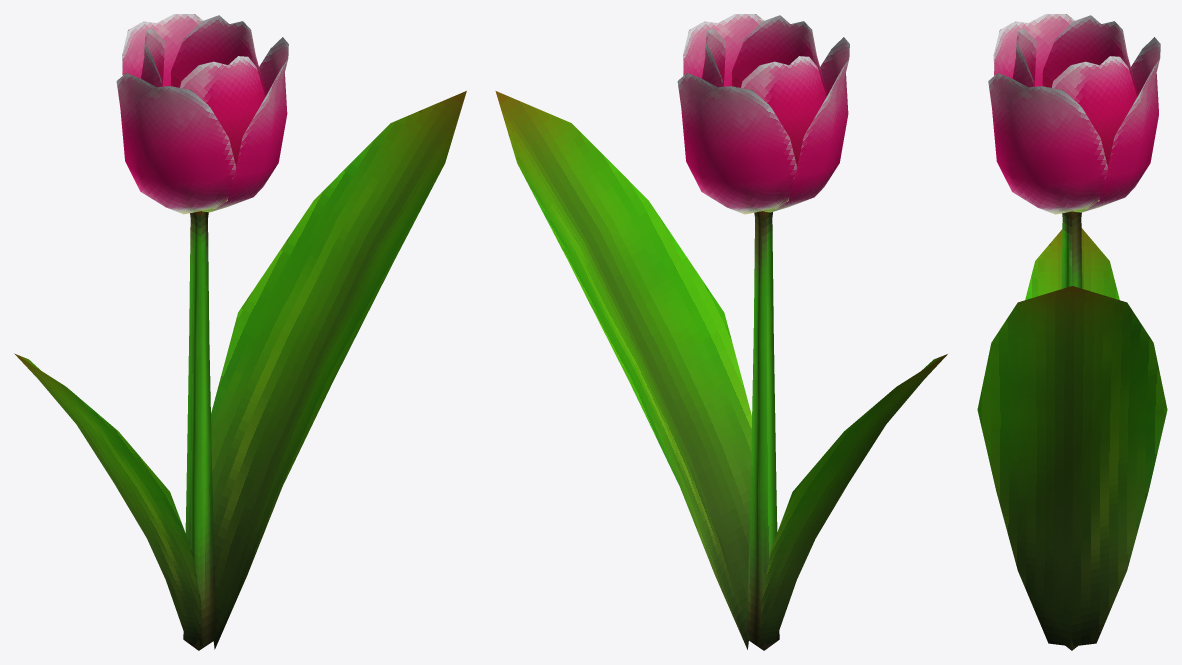
Rendered from tulip.glb.
3 renders of one model, left to right at view 1: azimuth 30°, elevation 25°; view 2: azimuth 150°, elevation 25°; view 3: azimuth 270°, elevation 25°, orthographic.
Visible parts, largest first — view 1: 平面.002, 平面, 平面.003, Cube, 平面.001; view 2: 平面.002, 平面, 平面.003, Cube, 平面.001; view 3: 平面.002, 平面, 平面.001, 平面.003, Cube.
Boxes of the visible parts, <box> form: 平面.002: <box>211,91,466,649</box>; 平面: <box>116,14,288,214</box>; 平面.003: <box>14,353,202,646</box>; Cube: <box>183,211,215,650</box>; 平面.001: <box>141,15,266,166</box>; 平面.002: <box>495,91,751,649</box>; 平面: <box>677,14,849,214</box>; 平面.003: <box>760,354,947,646</box>; Cube: <box>747,210,779,650</box>; 平面.001: <box>702,15,827,166</box>; 平面.002: <box>977,286,1167,646</box>; 平面: <box>988,14,1160,214</box>; 平面.001: <box>1012,15,1137,166</box>; 平面.003: <box>1025,228,1119,299</box>; Cube: <box>1061,211,1082,650</box>.
Size of the model in its own units: 2.96 by 3.78 by 1.08.
1 material, 1 textured.
